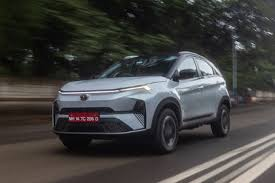Tata Nexon: (50, 52, 231, 156)
